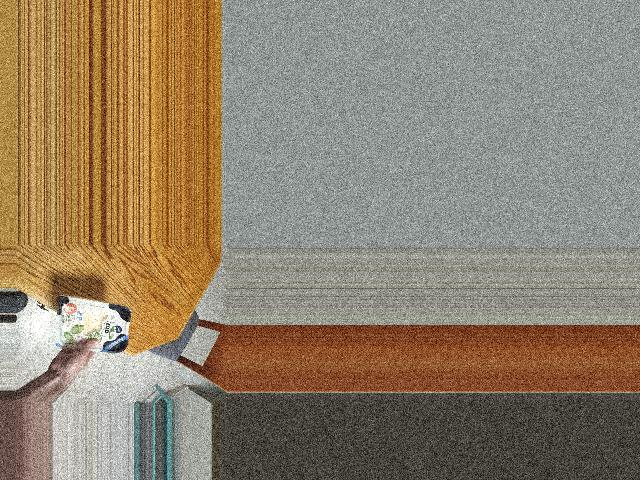cheese: (61, 300, 127, 352)
